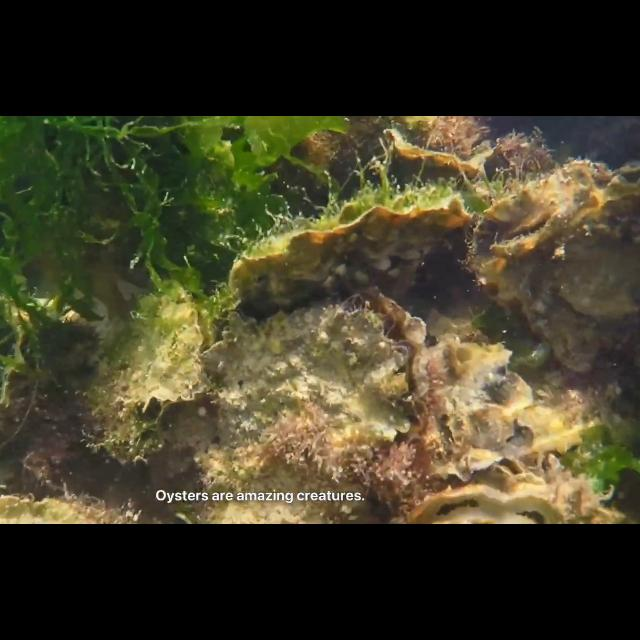Oyster-Closed: (228, 200, 482, 322), (0, 369, 100, 501)
Oyster-Open: (189, 292, 429, 524), (470, 153, 640, 369), (428, 338, 534, 487), (124, 294, 213, 428), (87, 352, 171, 466), (390, 485, 568, 525), (381, 128, 484, 190)
